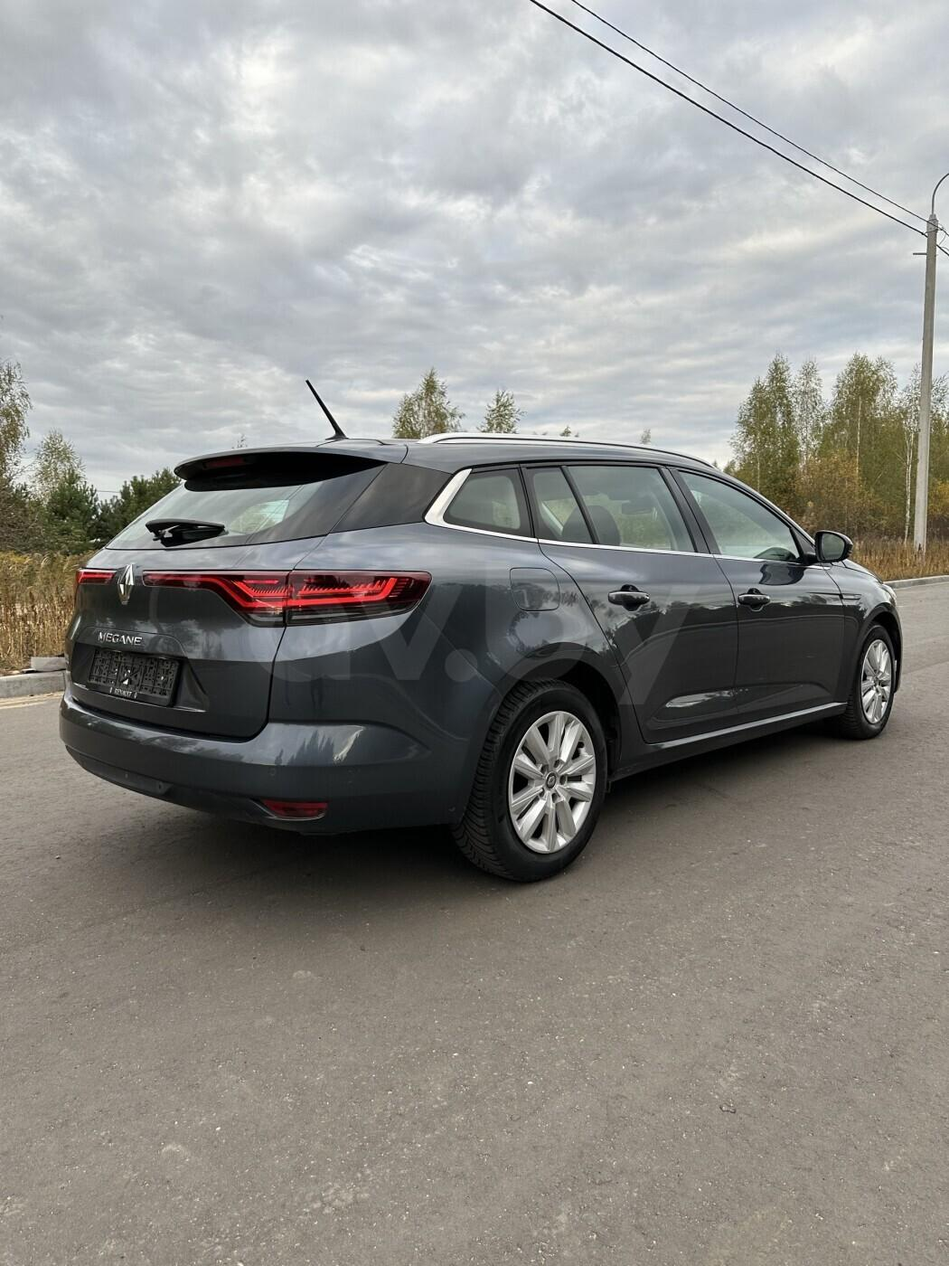Megane_2020: (45, 427, 920, 904)
